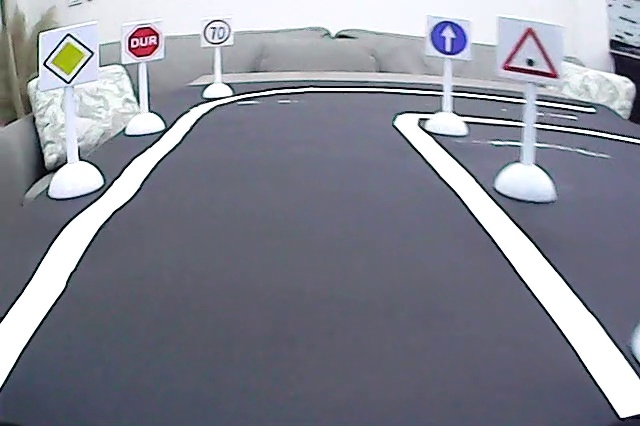green light: (497, 23, 563, 82)
speed limit 70: (203, 18, 233, 47)
stop sign: (125, 24, 163, 61)
